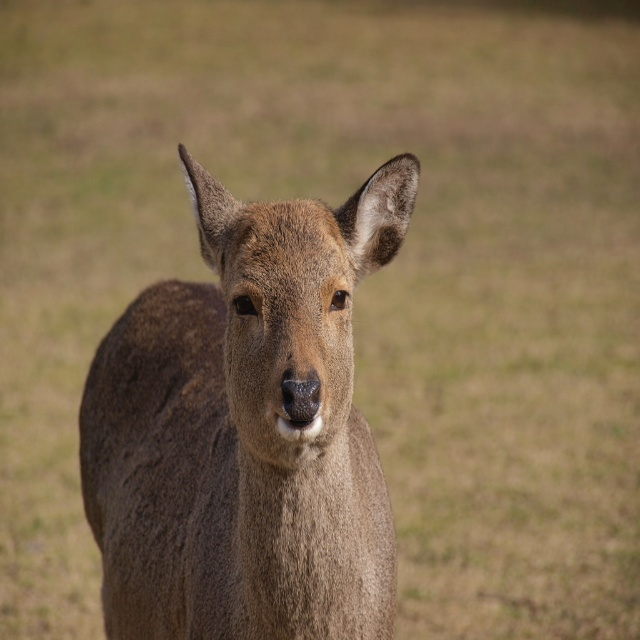Deer: (77, 143, 422, 637)
